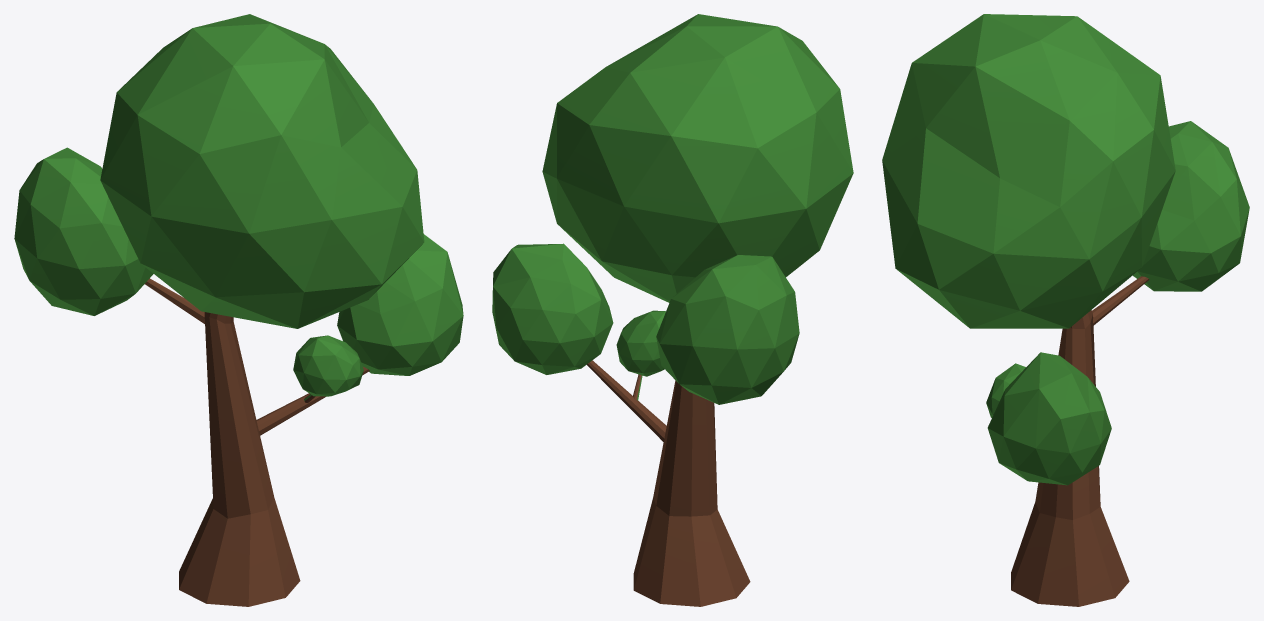
The model's file is MyFirstTree.fbx.
3 renders of one model, left to right at view 1: azimuth 30°, elevation 25°; view 2: azimuth 150°, elevation 25°; view 3: azimuth 270°, elevation 25°, orthographic. The views are drawn at different scales.
Parts seen in each view (by area): view 1: Icosphere.001; view 2: Icosphere.001; view 3: Icosphere.001.
Part boxes in pixels (x1,y1,x2,y2): Icosphere.001: (14,14,463,606); Icosphere.001: (492,14,853,606); Icosphere.001: (882,14,1249,606).
Bounding box in the file's own units: 602 × 885 × 536.
